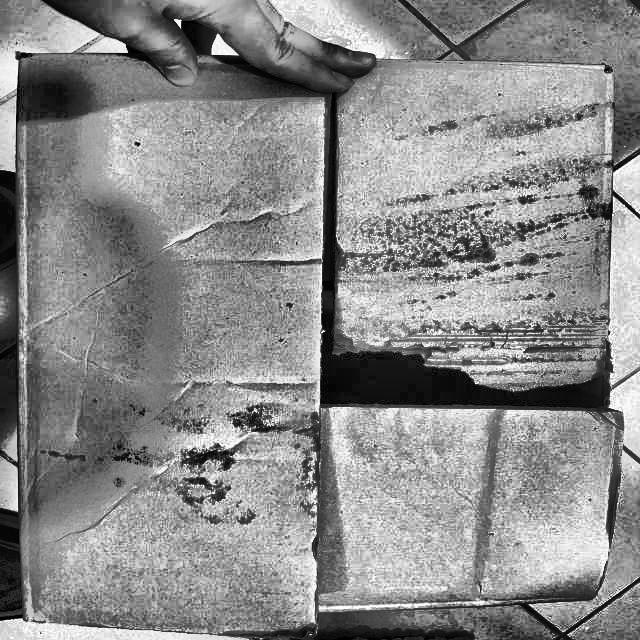box: (3, 37, 629, 628)
hole: (332, 345, 608, 435)
